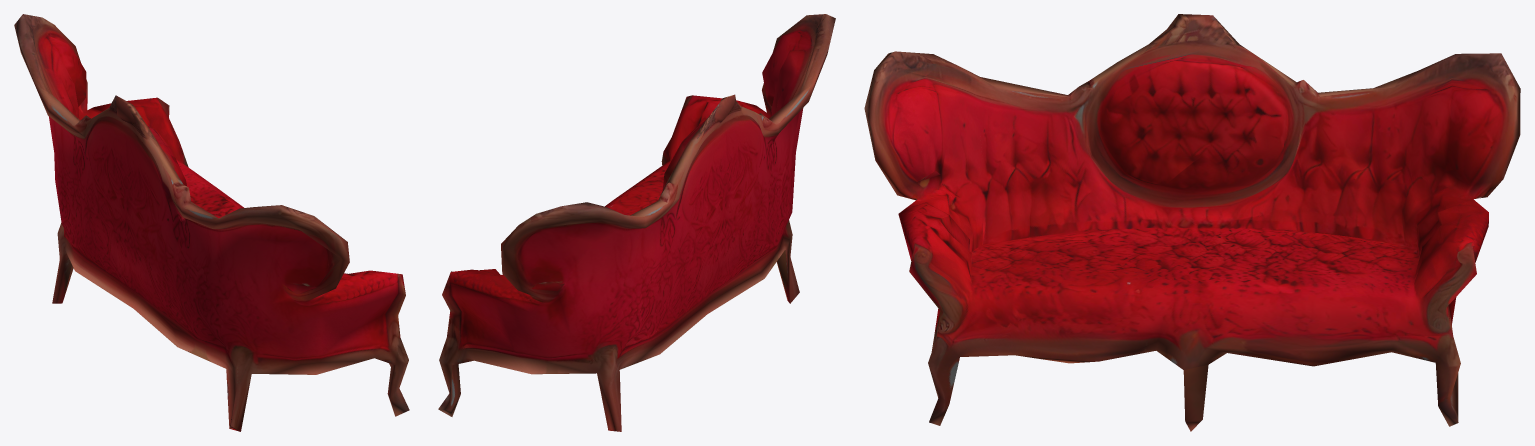
The model's file is victorian_sofa.glb.
3 renders of one model, left to right at view 1: azimuth 30°, elevation 25°; view 2: azimuth 150°, elevation 25°; view 3: azimuth 270°, elevation 25°, orthographic. The views are drawn at different scales.
Parts seen in each view (by area): view 1: tripo_node_862b2dc5-91cf-4d52-b367-0f72a4318555_tripo_materi; view 2: tripo_node_862b2dc5-91cf-4d52-b367-0f72a4318555_tripo_materi; view 3: tripo_node_862b2dc5-91cf-4d52-b367-0f72a4318555_tripo_materi.
Part boxes in pixels (x1,y1,x2,y2): tripo_node_862b2dc5-91cf-4d52-b367-0f72a4318555_tripo_materi: [14, 14, 409, 431]; tripo_node_862b2dc5-91cf-4d52-b367-0f72a4318555_tripo_materi: [438, 14, 835, 431]; tripo_node_862b2dc5-91cf-4d52-b367-0f72a4318555_tripo_materi: [864, 14, 1520, 431].
Size of the model in its own units: 3.85 by 5.73 by 10.65.
Materials: 1 (1 with a texture image).
